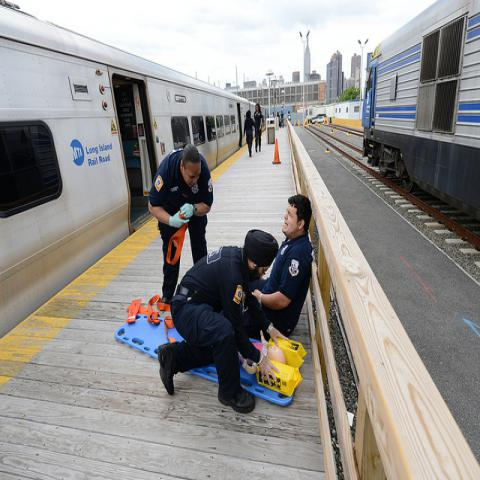car: (312, 114, 326, 124)
